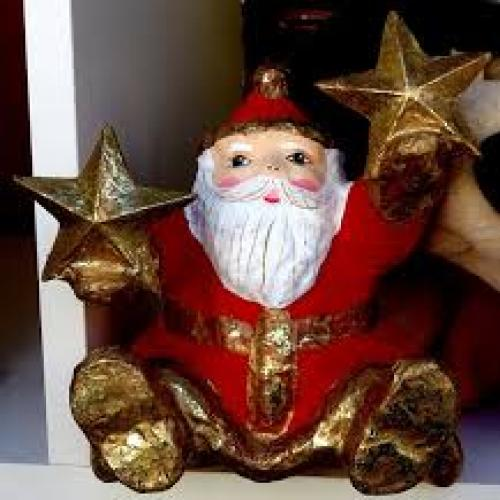Santa: (71, 63, 473, 495)
